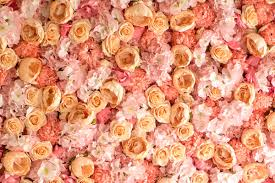lale: (120, 130, 152, 161), (98, 80, 130, 111), (147, 50, 171, 89), (36, 83, 66, 113), (116, 47, 142, 80), (17, 17, 45, 46), (16, 55, 42, 85), (1, 154, 30, 180), (0, 114, 24, 143), (67, 20, 93, 46), (22, 107, 47, 134), (170, 73, 199, 95), (103, 114, 128, 139), (43, 0, 72, 21), (85, 83, 103, 116), (0, 48, 22, 74), (119, 23, 140, 49), (172, 39, 191, 67), (174, 120, 197, 143), (215, 140, 233, 169), (70, 157, 91, 180), (149, 100, 170, 121), (139, 86, 163, 103), (167, 100, 189, 118), (29, 135, 44, 161), (99, 31, 114, 55), (197, 141, 213, 157)
